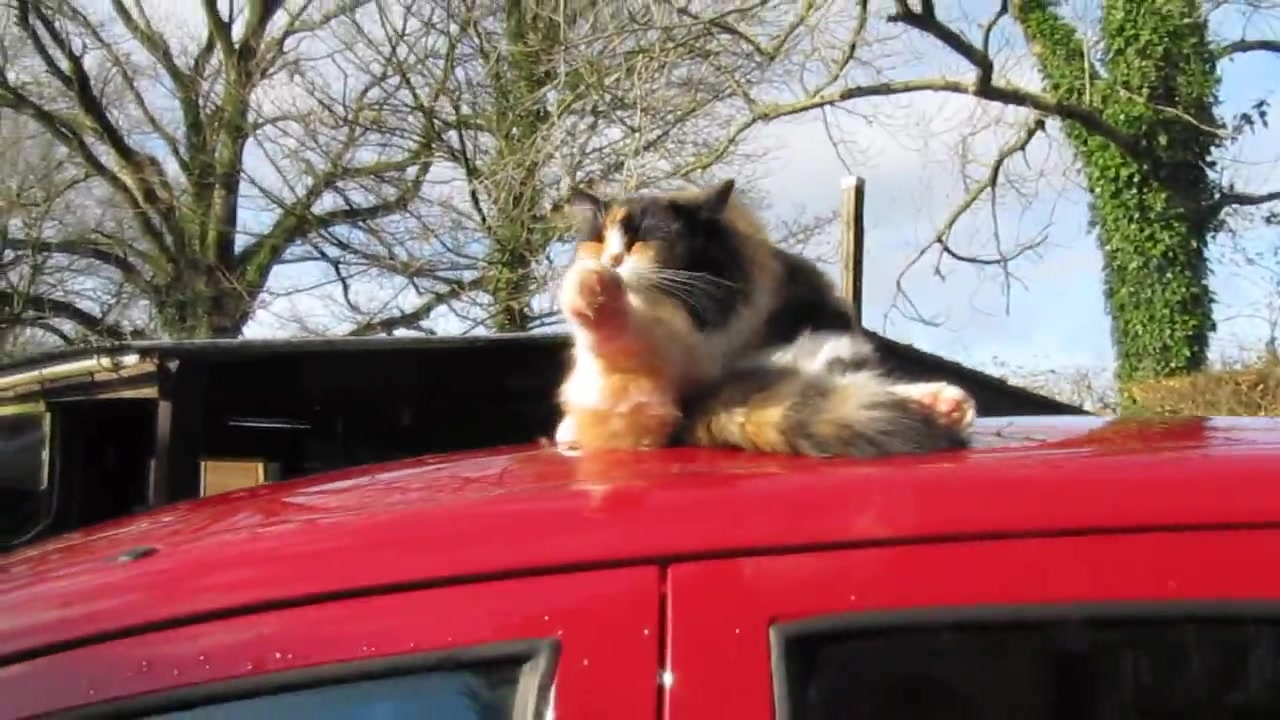cat: (549, 181, 979, 461)
